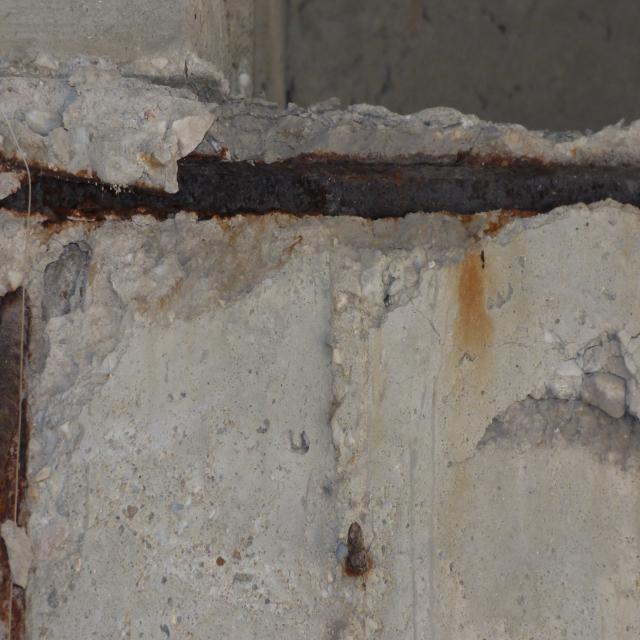corrosion: (0, 124, 640, 244), (127, 218, 292, 327), (0, 260, 36, 640), (448, 241, 508, 404), (342, 513, 384, 598)
